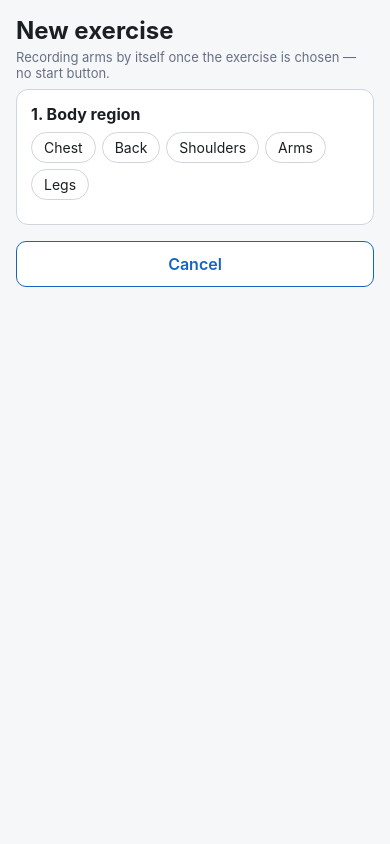
Test case: training memory in the UX › with no history, selection says so
The width and height of the screenshot is (390, 844).
Click the text "Legs".
click(60, 184)  # box [44,176,76,193]
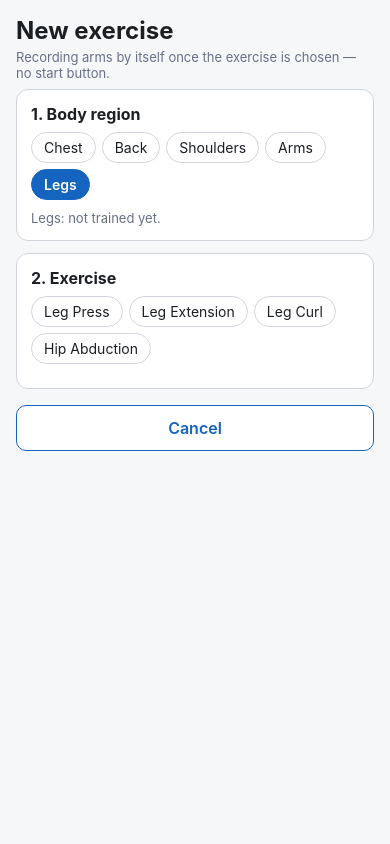
Now the text "Legs: not trained yet." is shown, box [31,210,161,226]
Click the text "Leg Curl".
click(295, 312)  # box [267,303,323,320]
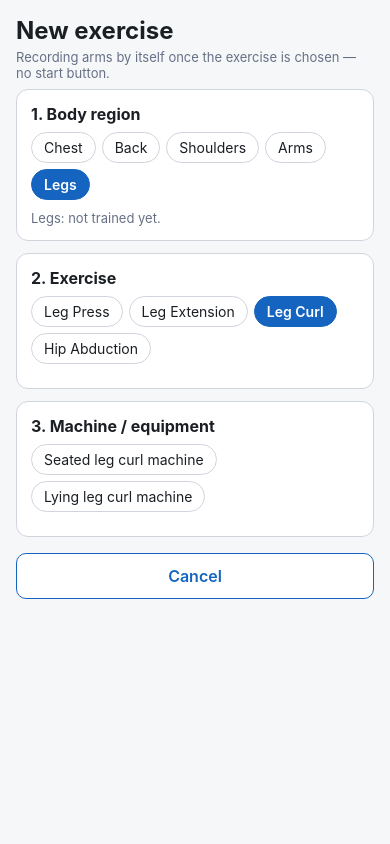
Click the text "Seated leg curl machine".
click(124, 460)  # box [44,451,204,468]
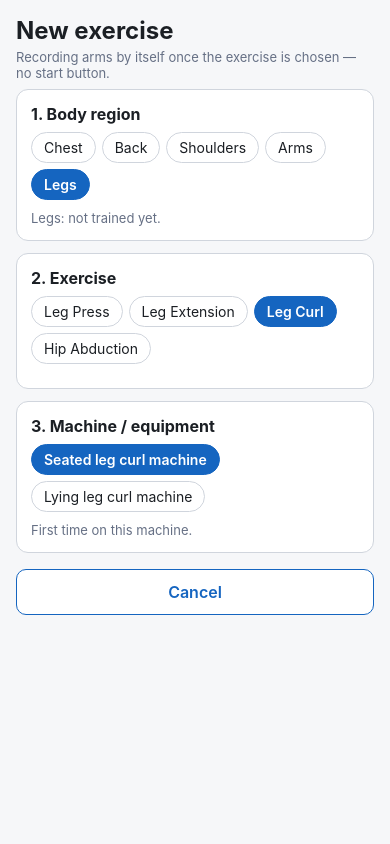
Now the text "First time on this machine." is shown, box [31,522,192,538]
